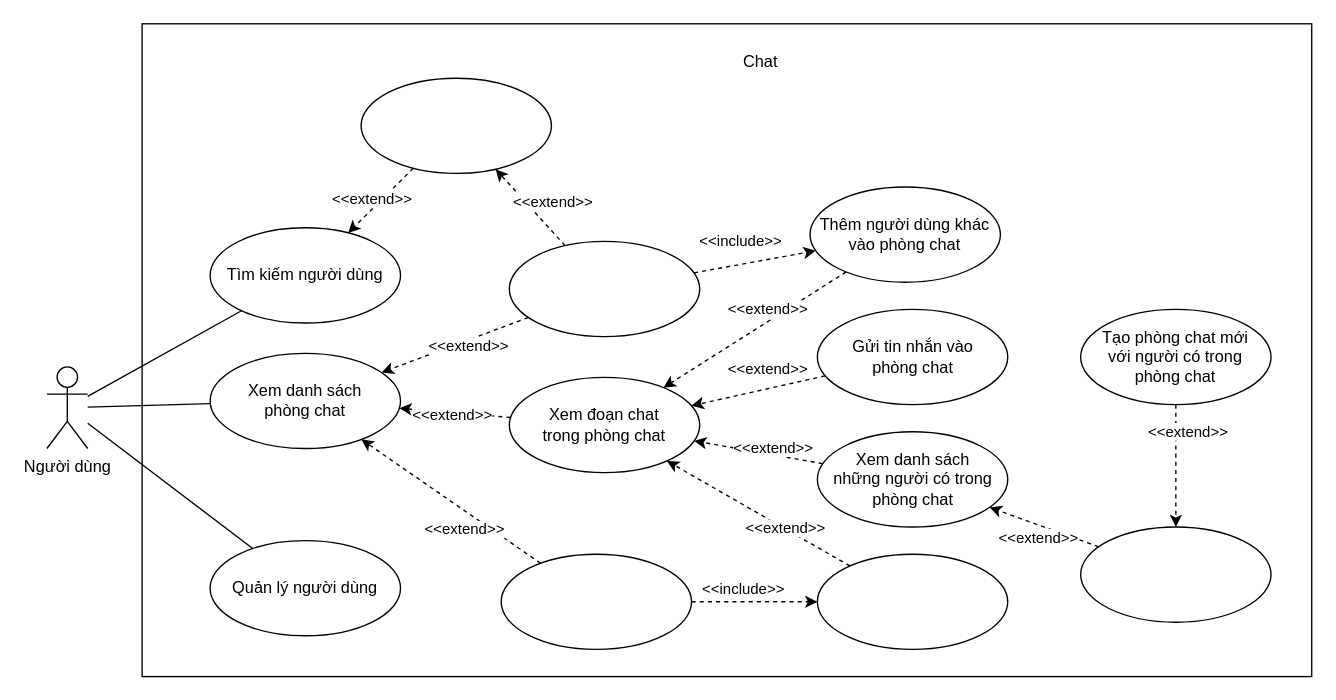
The diagram is 1336 pixels wide and 700 high, and some of its shapes have lost their labels. The centre of each missing label's shape, as x and y in pixels:
Rời khỏi phòng chat: point (912, 601)
Tạo phòng chat: point (604, 288)
Xem thông tin người dùng: point (455, 125)
Xem thông tin những người có trong phòng chat: point (1175, 574)
Xóa phòng chat: point (596, 601)
